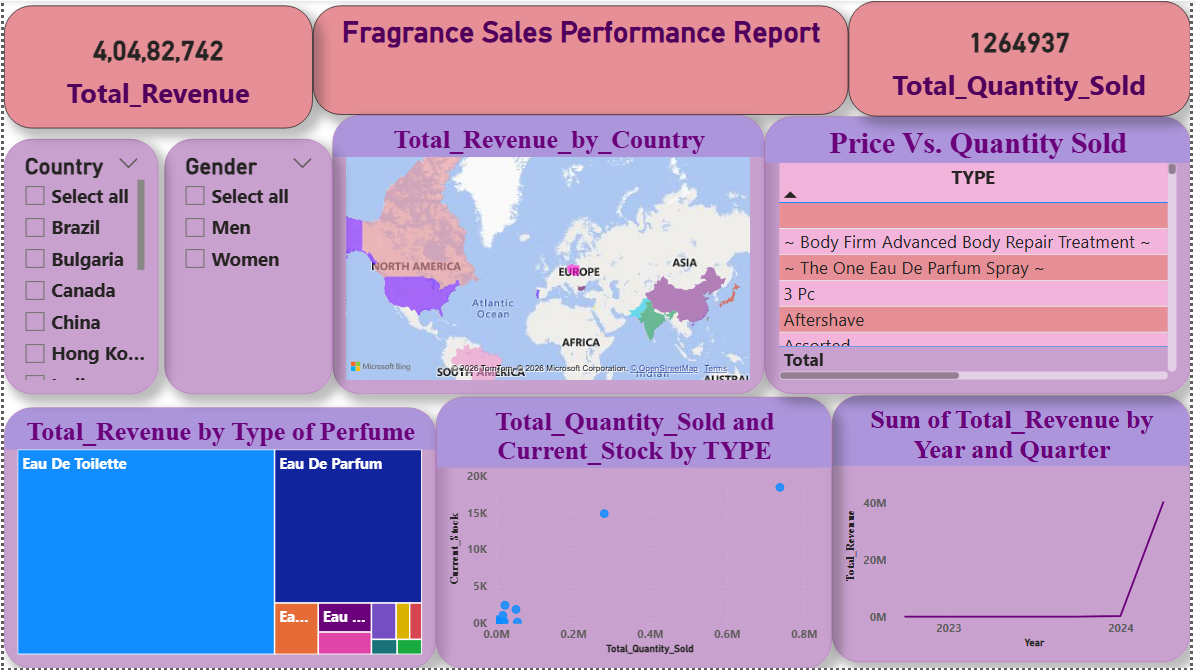

The page's visual inventory and layout, read from the dashboard file:
{"tool":"powerbi","page":{"name":"Report","canvas":[1280,720],"ordinal":6},"visuals":[{"type":"textbox","title":"Fragrance Sales Performance Report","box":[333.6,4.9,578.1,118.2],"z":0},{"type":"filledMap","title":"Total_Revenue_by_Country","fields":{"Category":["Country_Dim.Country"]},"box":[354.6,123.1,466.3,301.2],"z":1000},{"type":"treemap","title":"Total_Revenue by Type of Perfume","fields":{"Group":["Type_Dim.TYPE"],"Values":["_Measures.Total_Revenue"]},"box":[0,438.8,466.3,281.7],"z":2000},{"type":"lineChart","fields":{"Category":["Master_data_Fact.Last_Updated_Date.Variation.Date Hierarchy.Year","Master_data_Fact.Last_Updated_Date.Variation.Date Hierarchy.Quarter","Master_data_Fact.Last_Updated_Date.Variation.Date Hierarchy.Month"],"Y":["Sum(Master_data_Fact.Total_Revenue)"]},"box":[893.8,425.9,387,288.2],"z":3000},{"type":"scatterChart","fields":{"X":["_Measures.Total_Quantity_Sold"],"Y":["_Measures.Current_Stock"],"Category":["Type_Dim.TYPE"]},"box":[466.3,427.5,427.5,293.1],"z":4000},{"type":"tableEx","title":"Price Vs. Quantity Sold","fields":{"Values":["Type_Dim.TYPE","_Measures.Average_price","_Measures.Total_Quantity_Sold","_Measures.Total_Revenue"]},"box":[820.9,124.7,459.9,299.6],"z":5000},{"type":"slicer","fields":{"Values":["Master_data_Fact.Gender"]},"box":[173.3,149,181.4,275.3],"z":6000},{"type":"slicer","fields":{"Values":["Country_Dim.Country"]},"box":[0,149,166.8,275.3],"z":7000},{"type":"card","fields":{"Values":["_Measures.Total_Revenue"]},"box":[0,4.9,333.6,132.8],"z":8000},{"type":"card","fields":{"Values":["_Measures.Total_Quantity_Sold"]},"box":[911.6,0,369.2,124.7],"z":9000}]}

Visuals, with their boxes in screenshot pixels (x1, y1, x2, y2), scaled from the page's 1280x720 canvas onto the 1196x670 screenshot:
"Fragrance Sales Performance Report" textbox: 312 5 852 115
"Total_Revenue_by_Country" filledMap: 331 115 767 395
"Total_Revenue by Type of Perfume" treemap: 0 408 436 669
lineChart - Master_data_Fact.Last_Updated_Date.Variation.Date Hierarchy.Year x Master_data_Fact.Last_Updated_Date.Variation.Date Hierarchy.Quarter: 835 396 1195 665
scatterChart - _Measures.Total_Quantity_Sold x _Measures.Current_Stock: 436 398 835 669
"Price Vs. Quantity Sold" tableEx: 767 116 1195 395
slicer - Master_data_Fact.Gender: 162 139 331 395
slicer - Country_Dim.Country: 0 139 156 395
card - _Measures.Total_Revenue: 0 5 312 128
card - _Measures.Total_Quantity_Sold: 852 0 1195 116
